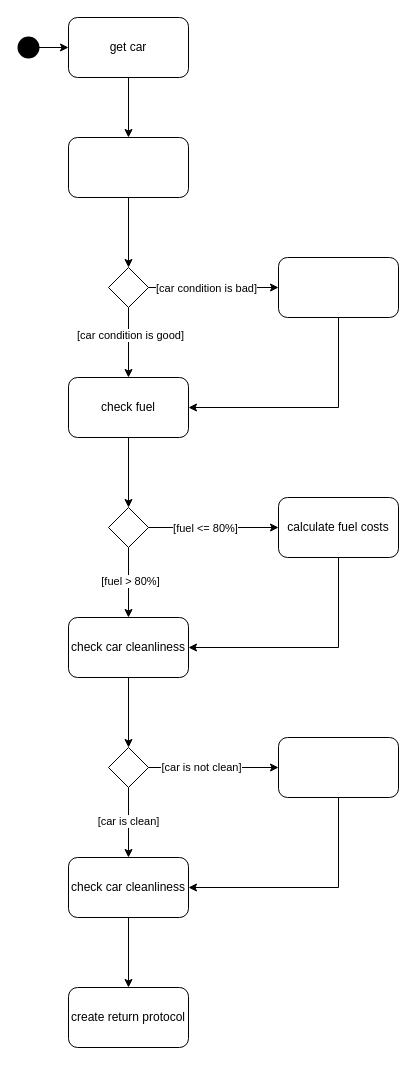
Some shapes in this 416 by 1065 pixel diagram are drawn without their labels. Here are the shapes that lost their labels. From the top down, the box of each, then its label:
(68, 136, 188, 198): check car condition
(278, 256, 398, 318): calculate repair costs
(278, 736, 398, 798): calculate cleaning costs
